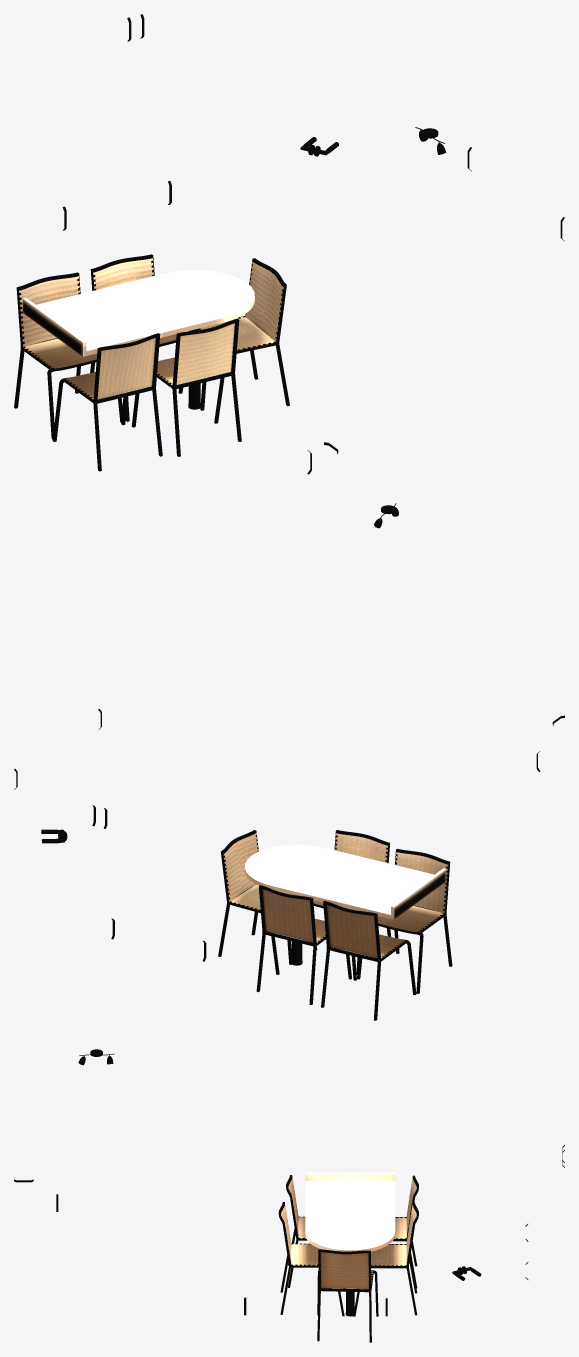
File: SM_LivR_F0.glb
3 views of the same model, one above another, from view 1: azimuth 30°, elevation 25°; view 2: azimuth 150°, elevation 25°; view 3: azimuth 270°, elevation 25° (orthographic). The views are drawn at different scales.
Visible parts, largest first — view 1: SM_LivR_F0; view 2: SM_LivR_F0; view 3: SM_LivR_F0.
Boxes of the visible parts, left/top/right/bottom form: SM_LivR_F0: left=14, top=14, right=564, bottom=474; SM_LivR_F0: left=14, top=503, right=564, bottom=1020; SM_LivR_F0: left=14, top=1049, right=564, bottom=1342.
Bounding box in the file's own units: 3 × 2.48 × 4.33.
1 material, 1 textured.
